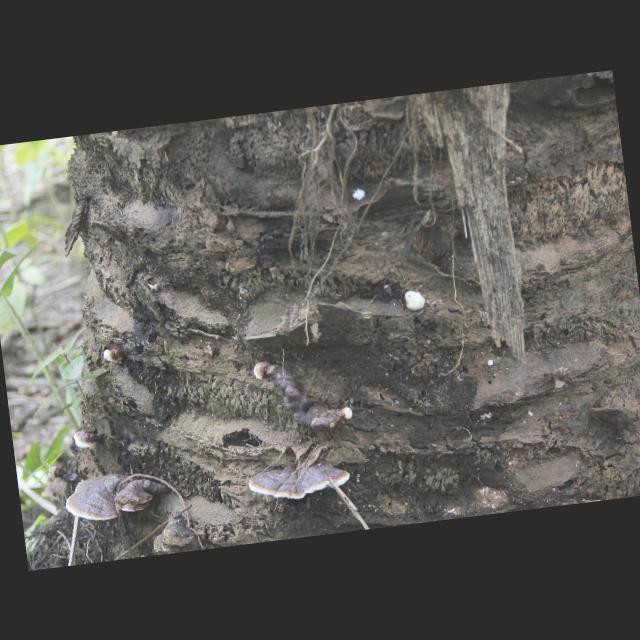ganoderma: (268, 354, 344, 440), (248, 457, 354, 507), (63, 473, 137, 527), (112, 477, 170, 515), (74, 428, 105, 450)
primordium: (404, 289, 427, 312), (104, 349, 126, 367), (254, 361, 270, 382), (49, 466, 65, 481), (343, 407, 355, 421), (487, 360, 494, 368)
